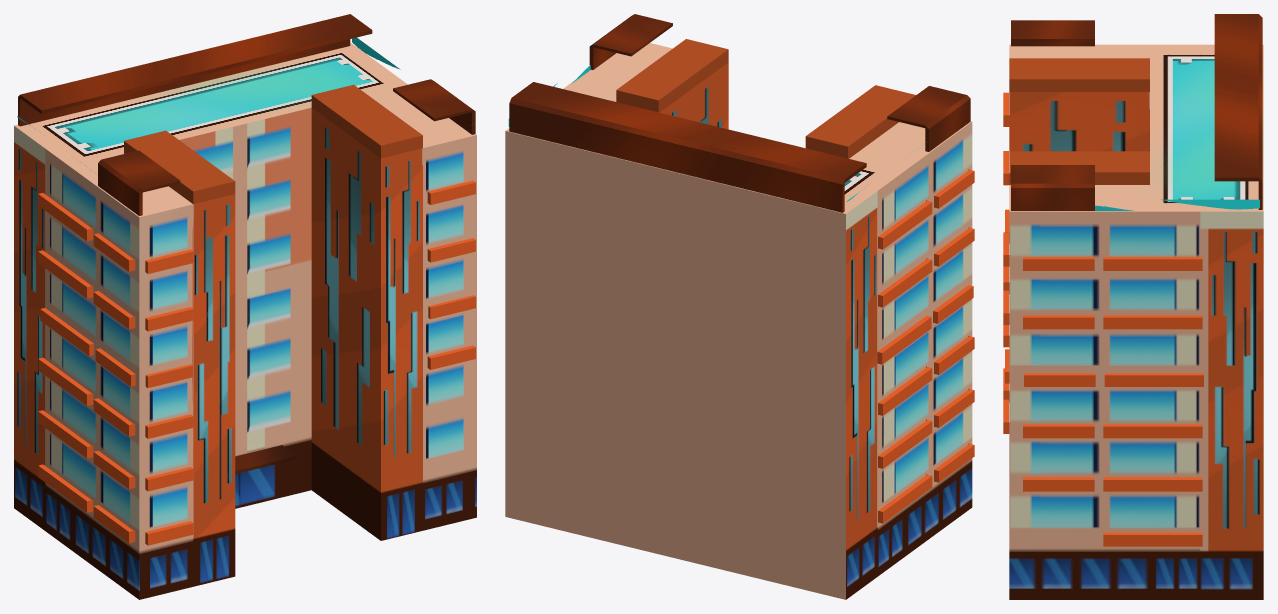
The model's file is Tx_Exterior_Property_ApartmentT2.fbx.
The picture shows the model from 3 angles, left to right: view 1: azimuth 30°, elevation 25°; view 2: azimuth 150°, elevation 25°; view 3: azimuth 270°, elevation 25°; orthographic projection.
Visible parts, largest first — view 1: Appartment_T2; view 2: Appartment_T2; view 3: Appartment_T2.
Part boxes in pixels (<box>): Appartment_T2: <box>14,14,476,599</box>; Appartment_T2: <box>505,14,974,599</box>; Appartment_T2: <box>1003,14,1263,599</box>.
Bounding box in the file's own units: 71.74 × 81.46 × 45.67.
